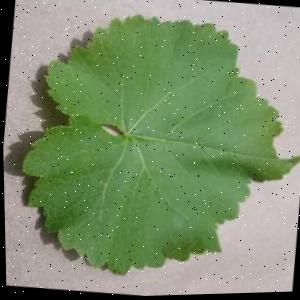Folha: (7, 0, 300, 297)
